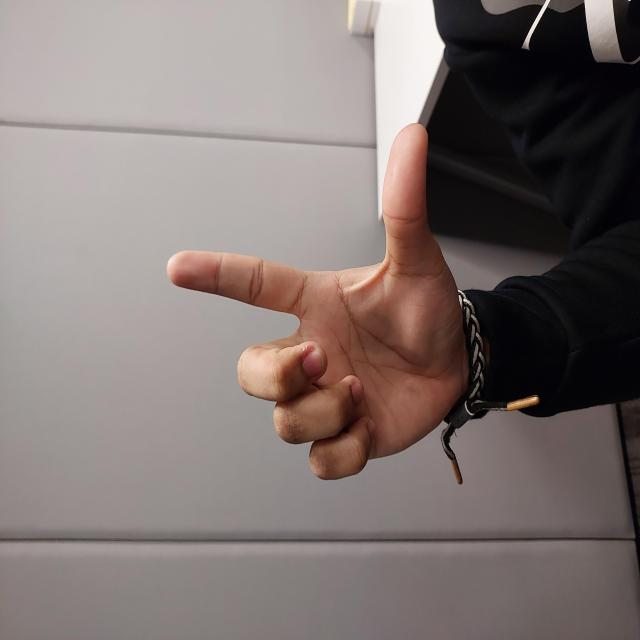L: (158, 166, 519, 473)
